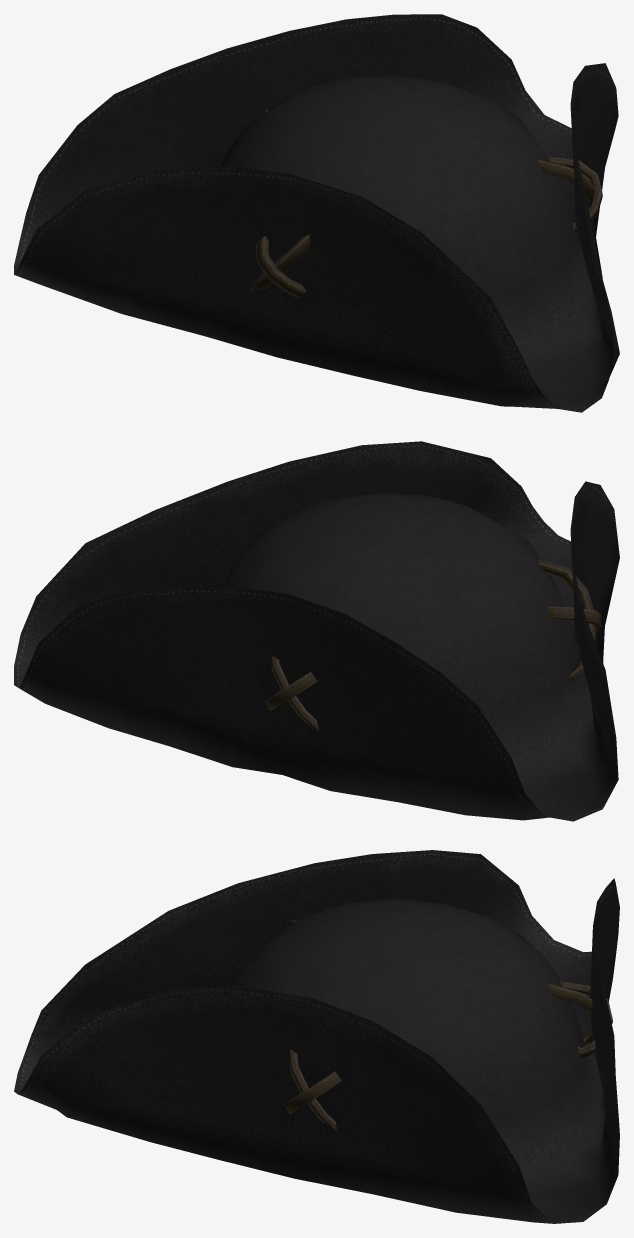
Rendered from tricorn.glb.
3 views of the same model, one above another, from view 1: azimuth 30°, elevation 25°; view 2: azimuth 150°, elevation 25°; view 3: azimuth 270°, elevation 25° (orthographic).
Visible parts, largest first — view 1: defaultMaterial.006, defaultMaterial.002, defaultMaterial.003, defaultMaterial.004, defaultMaterial.005; view 2: defaultMaterial.006, defaultMaterial.003, defaultMaterial, defaultMaterial.001, defaultMaterial.002; view 3: defaultMaterial.006, defaultMaterial.004, defaultMaterial.005, defaultMaterial.001, defaultMaterial.
Boxes of the visible parts, bbox=[...] form: defaultMaterial.006: bbox=[14, 14, 619, 412]; defaultMaterial.002: bbox=[256, 236, 306, 297]; defaultMaterial.003: bbox=[248, 235, 310, 292]; defaultMaterial.004: bbox=[547, 156, 602, 233]; defaultMaterial.005: bbox=[537, 159, 595, 208]; defaultMaterial.006: bbox=[14, 441, 619, 821]; defaultMaterial.003: bbox=[537, 559, 595, 680]; defaultMaterial: bbox=[264, 672, 317, 710]; defaultMaterial.001: bbox=[271, 656, 319, 731]; defaultMaterial.002: bbox=[547, 606, 601, 632]; defaultMaterial.006: bbox=[14, 850, 619, 1223]; defaultMaterial.004: bbox=[283, 1071, 341, 1113]; defaultMaterial.005: bbox=[289, 1049, 337, 1131]; defaultMaterial.001: bbox=[547, 984, 593, 1046]; defaultMaterial: bbox=[559, 981, 612, 1059].
Bounding box in the file's own units: 2 × 0.5923 × 1.78.
Materials: 1 (1 with a texture image).
